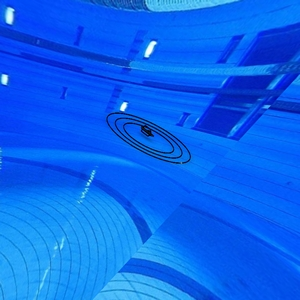circle: (102, 105, 205, 176)
submarine: (140, 121, 157, 141)
